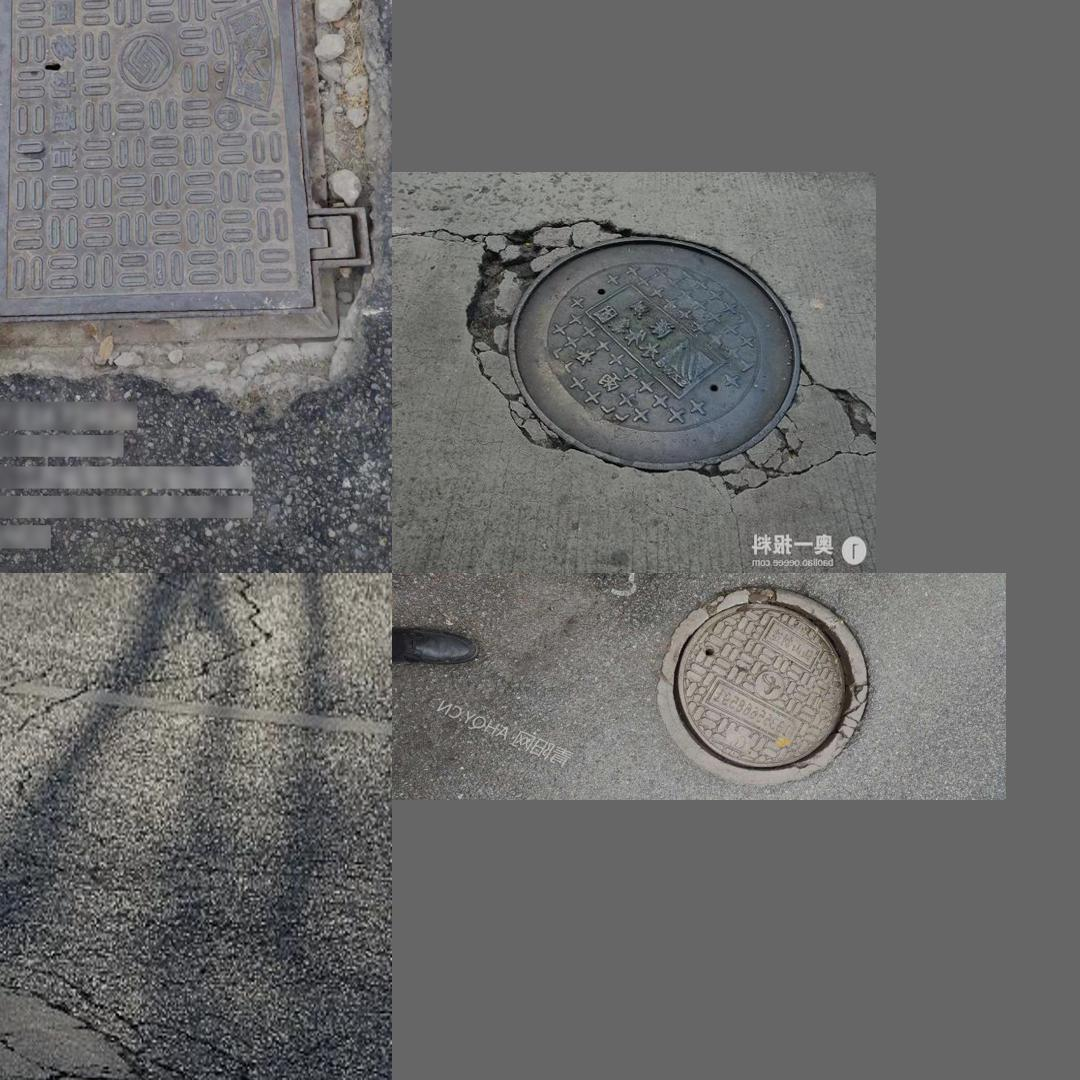circle: (0, 0, 376, 379), (458, 208, 866, 493), (643, 585, 897, 783), (0, 935, 186, 1080)
